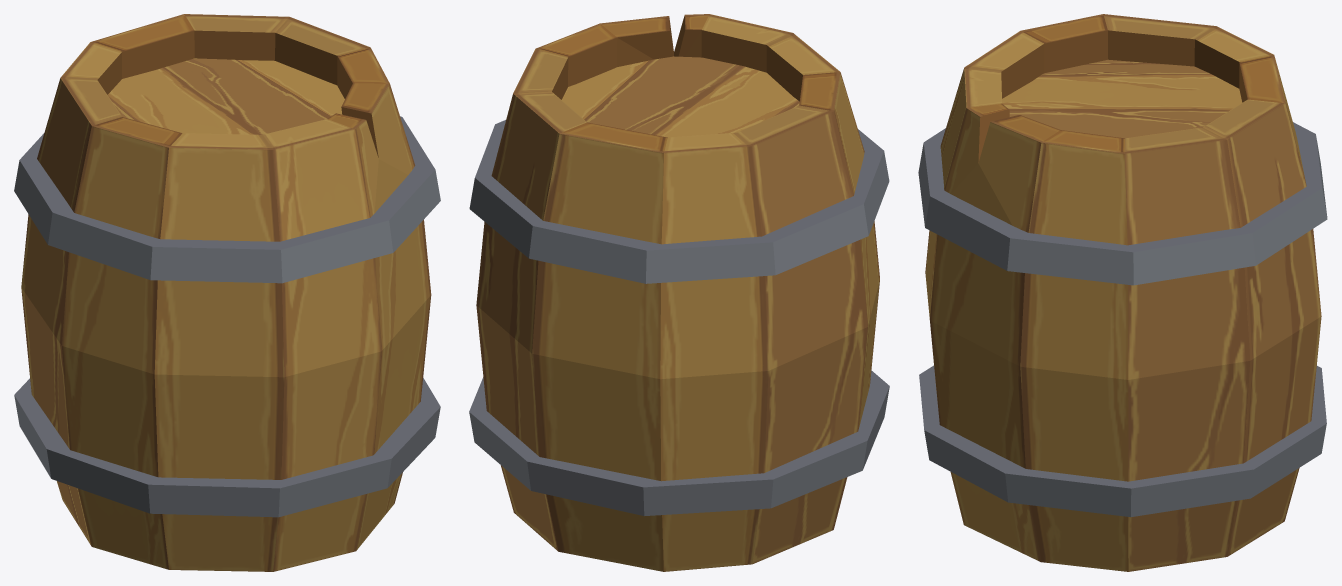
File: Wooden_Barrel.fbx
3 views of the same model, side by side, from view 1: azimuth 30°, elevation 25°; view 2: azimuth 150°, elevation 25°; view 3: azimuth 270°, elevation 25° (orthographic).
Parts seen in each view (by area): view 1: Wooden_Barrel; view 2: Wooden_Barrel; view 3: Wooden_Barrel.
Boxes of the visible parts, x1=… form: Wooden_Barrel: x1=14, y1=14, x2=440, y2=571; Wooden_Barrel: x1=469, y1=14, x2=889, y2=571; Wooden_Barrel: x1=918, y1=14, x2=1327, y2=571.
Bounding box in the file's own units: 18.26 × 19.91 × 17.64.
